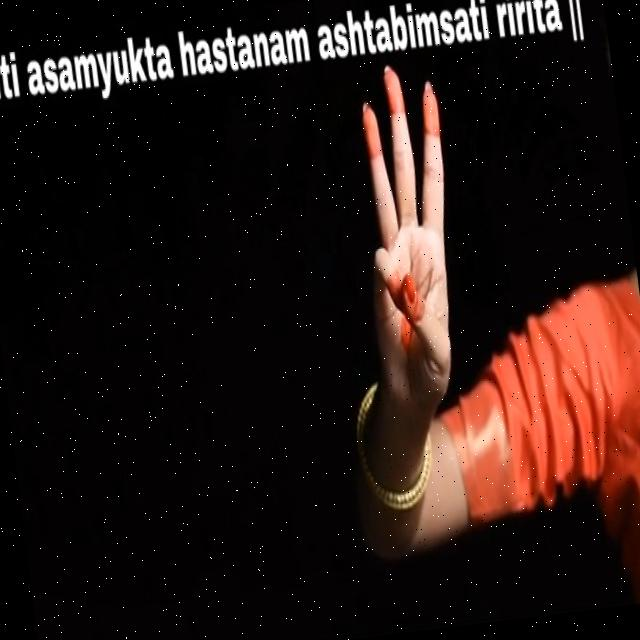Trishula: (338, 59, 486, 416)
bangle: (332, 377, 446, 526)
text: (0, 0, 589, 123)
